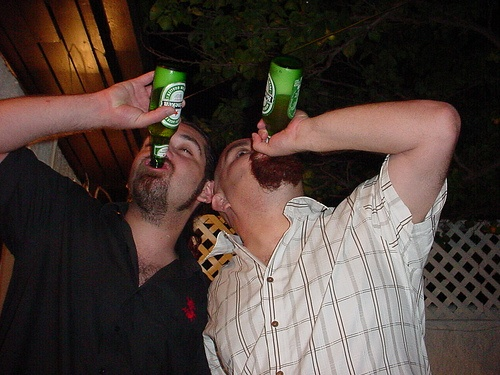head: (212, 131, 308, 236), (118, 120, 214, 225)
person: (212, 84, 462, 375), (1, 67, 215, 372)
